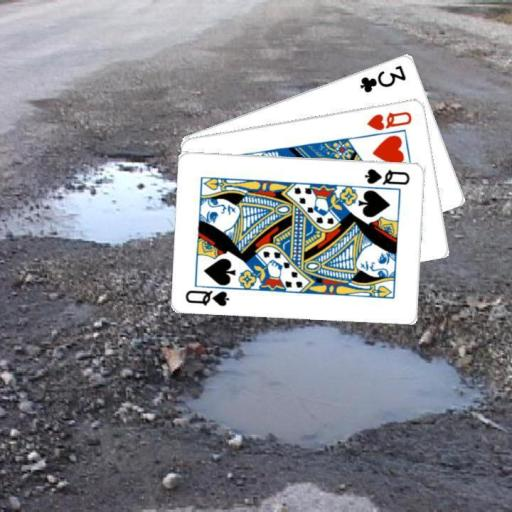card-corner: (357, 61, 408, 94), (364, 108, 414, 132), (183, 286, 231, 308), (362, 165, 412, 186)
